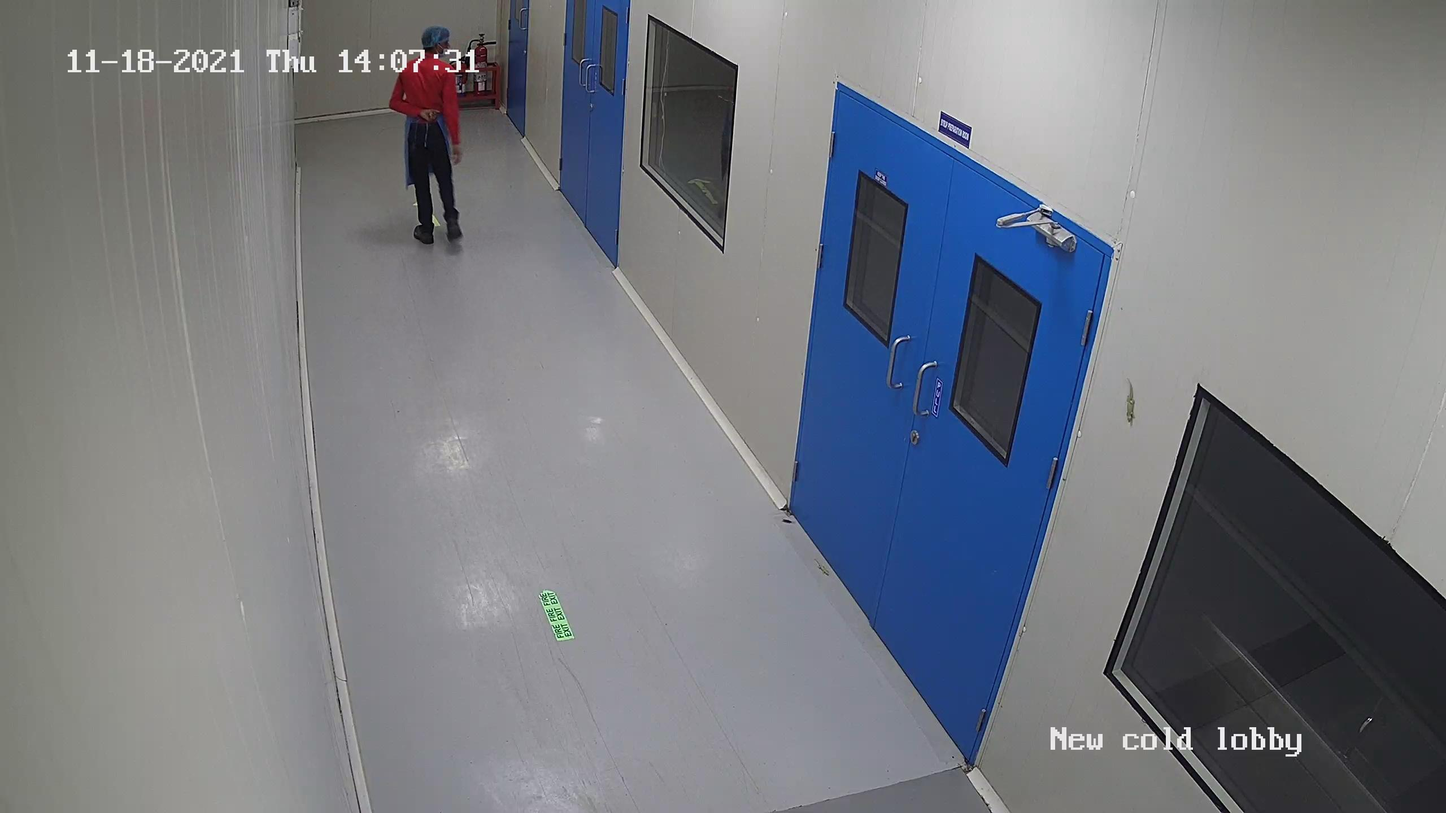cockroach: (780, 515, 797, 531)
lizard: (1114, 374, 1141, 426), (811, 554, 833, 579)
